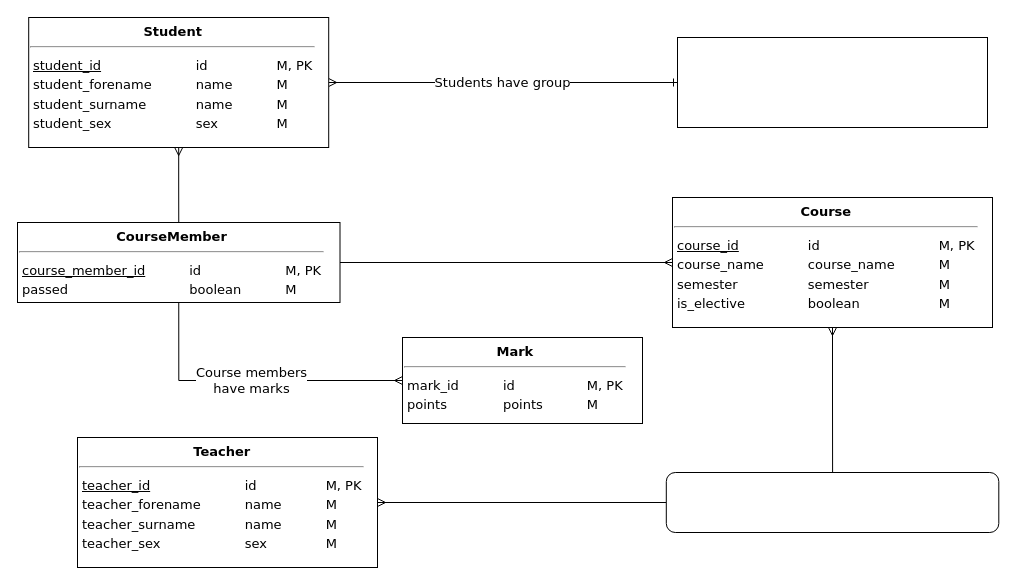
This 1017x585 diagram has some shape labels left out. Here are the shapes that lost their labels. From the top down, the centre of each, then its label:
[832,82]: Group group_id id M, PK group_name group_name M, K1
[832,502]: TeacherCourse teacher_position teacher_position M
